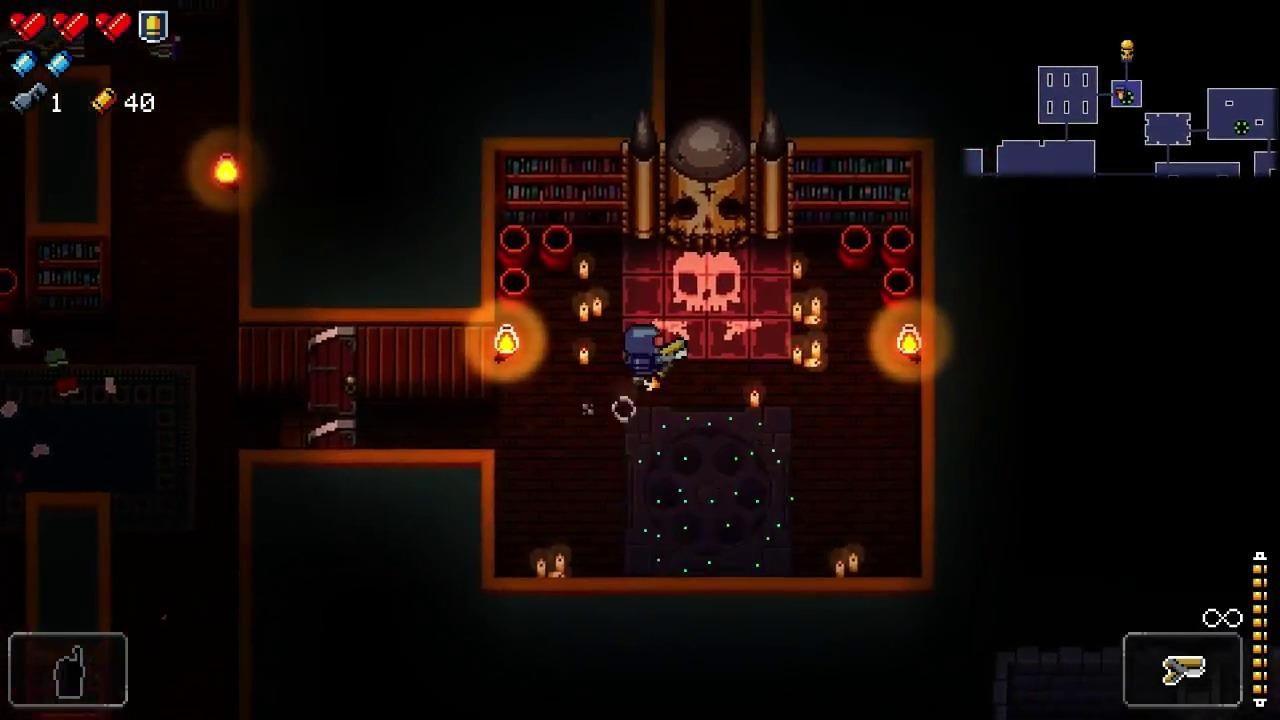boss_entry: (623, 242, 793, 360)
player: (623, 326, 662, 374)
teleporter: (622, 403, 791, 578)
unlocked_door: (307, 325, 356, 452)
